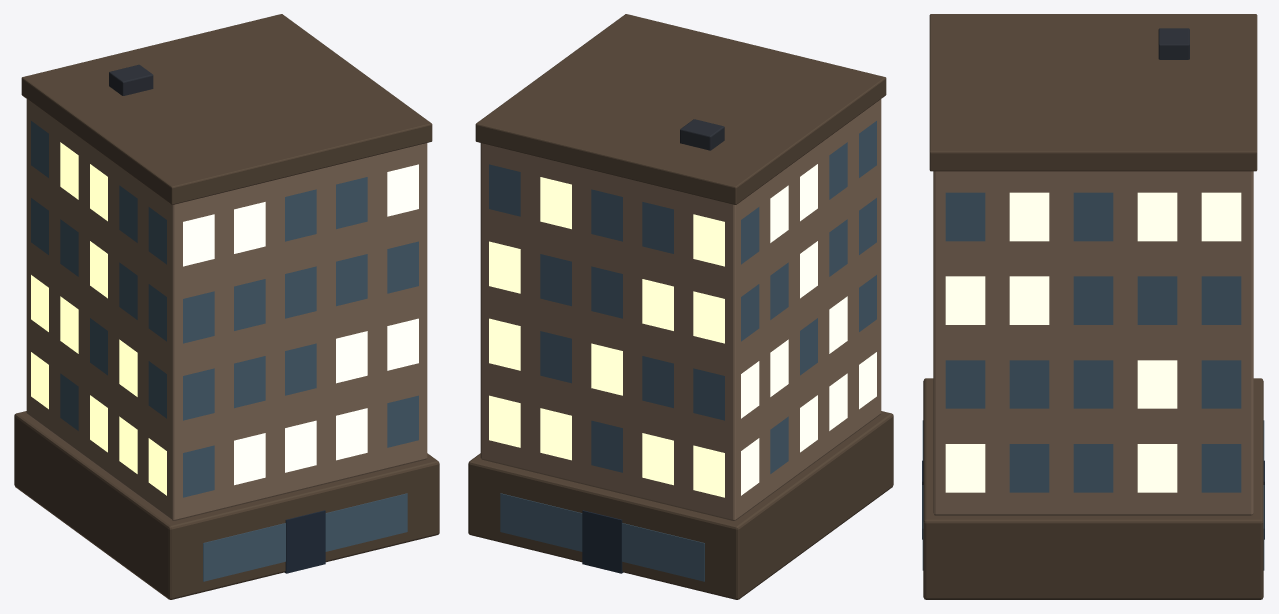
Rendered from bld_apartment.glb.
3 renders of one model, left to right at view 1: azimuth 30°, elevation 25°; view 2: azimuth 150°, elevation 25°; view 3: azimuth 270°, elevation 25°, orthographic. The views are drawn at different scales.
Parts seen in each view (by area): view 1: Shaft, Parapet, Windows, Podium, WindowsLit, Storefront, Door, AC_0; view 2: Shaft, Parapet, Podium, WindowsLit, Windows, Storefront, Door, AC_0; view 3: Shaft, Parapet, Podium, Windows, WindowsLit, AC_0, Storefront.
Boxes of the visible parts, x1,y1,x2,y2 form: Shaft: (26,99,427,520); Parapet: (21,14,432,204); Windows: (31,121,418,497); Podium: (14,411,439,599); WindowsLit: (31,142,418,495); Storefront: (203,493,407,581); Door: (284,510,325,573); AC_0: (109,64,153,95); Shaft: (480,99,881,520); Parapet: (475,14,886,204); Podium: (468,411,893,599); WindowsLit: (489,164,876,497); Windows: (489,121,876,473); Storefront: (500,493,704,581); Door: (582,510,623,573); AC_0: (680,119,724,150); Shaft: (933,171,1253,515); Parapet: (929,14,1257,171); Podium: (923,378,1263,599); Windows: (945,192,1241,492); WindowsLit: (945,192,1241,492); AC_0: (1158,28,1189,59); Storefront: (922,420,1264,570).
Size of the model in its own units: 13.8 by 20.69 by 13.92.
